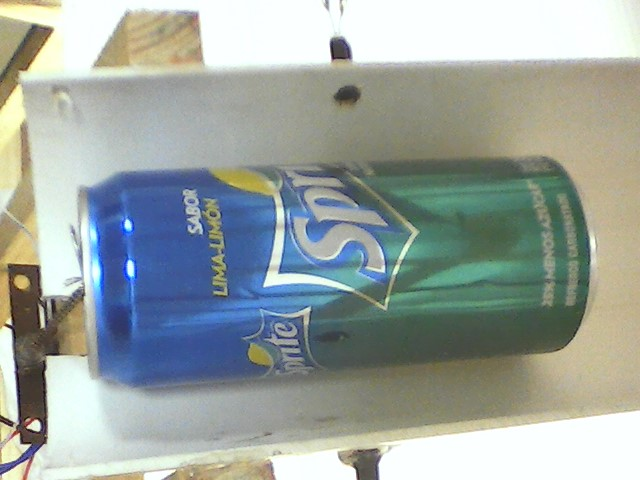lata: (75, 156, 602, 390)
